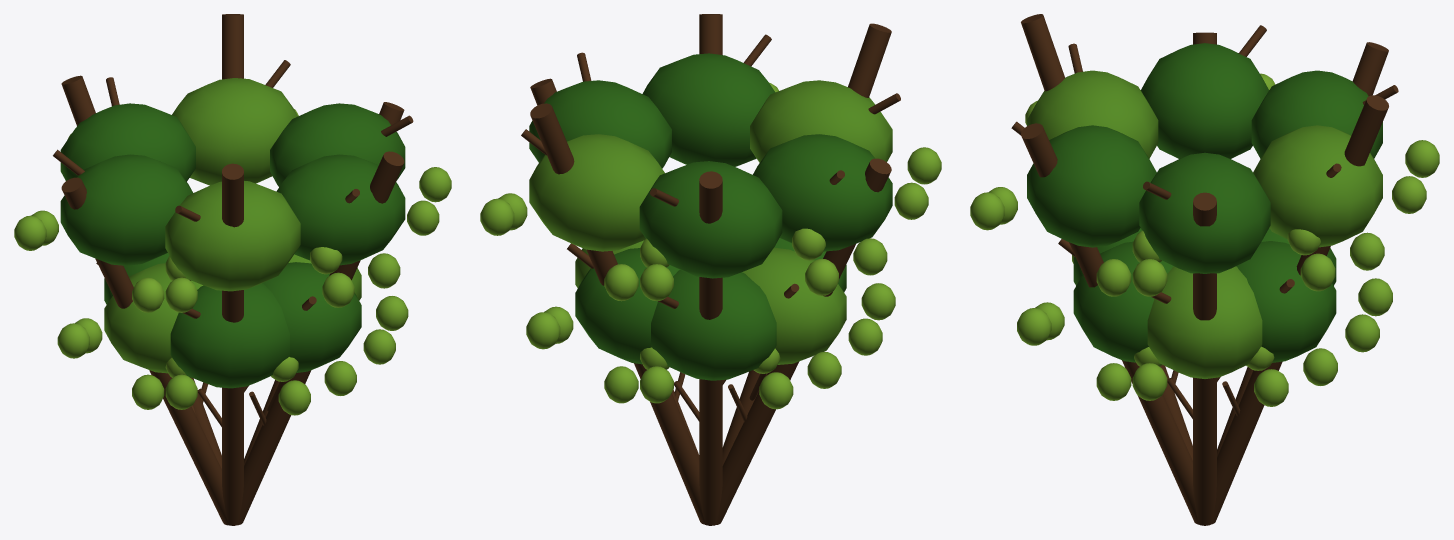
The model's file is Egresbokor.obj.
The picture shows the model from 3 angles, left to right: view 1: azimuth 30°, elevation 25°; view 2: azimuth 150°, elevation 25°; view 3: azimuth 270°, elevation 25°; orthographic projection. The views are drawn at different scales.
Bounding box in the file's own units: 0.9854 × 1.07 × 0.9778.
